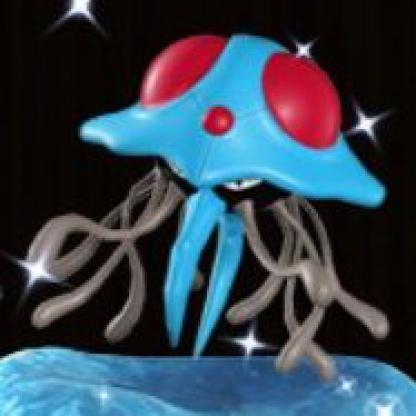Tentacruel: (46, 28, 408, 375)
